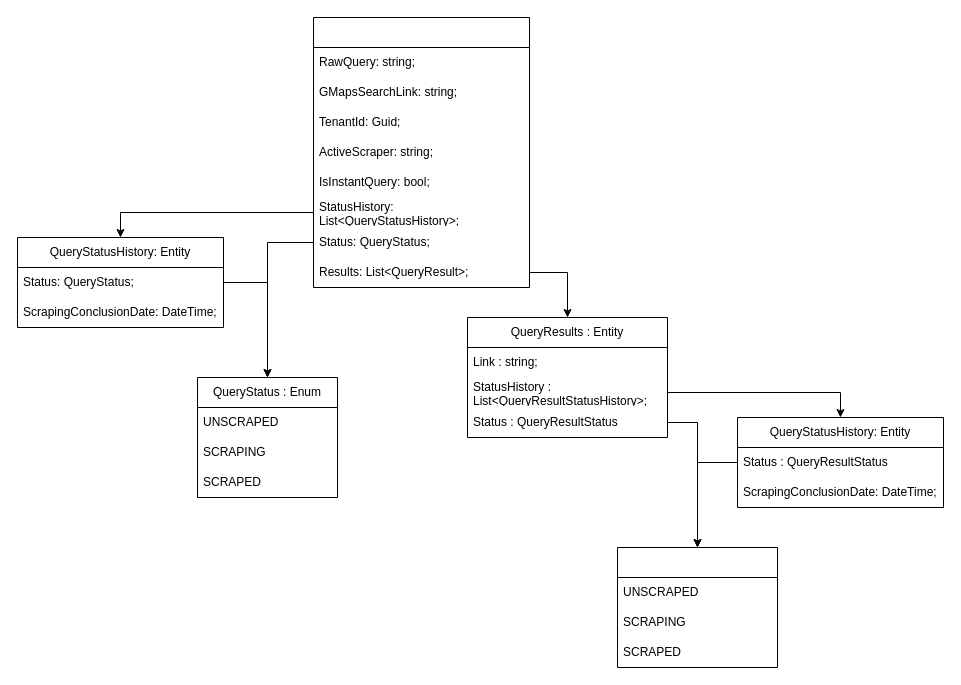
This 961x685 diagram has some shape labels left out. Here are the shapes that lost their labels. From the top down, the box of each, then its label:
(312, 16, 530, 288): Query : Aggregate Root
(616, 546, 778, 668): QueryResultStatus : Enum
